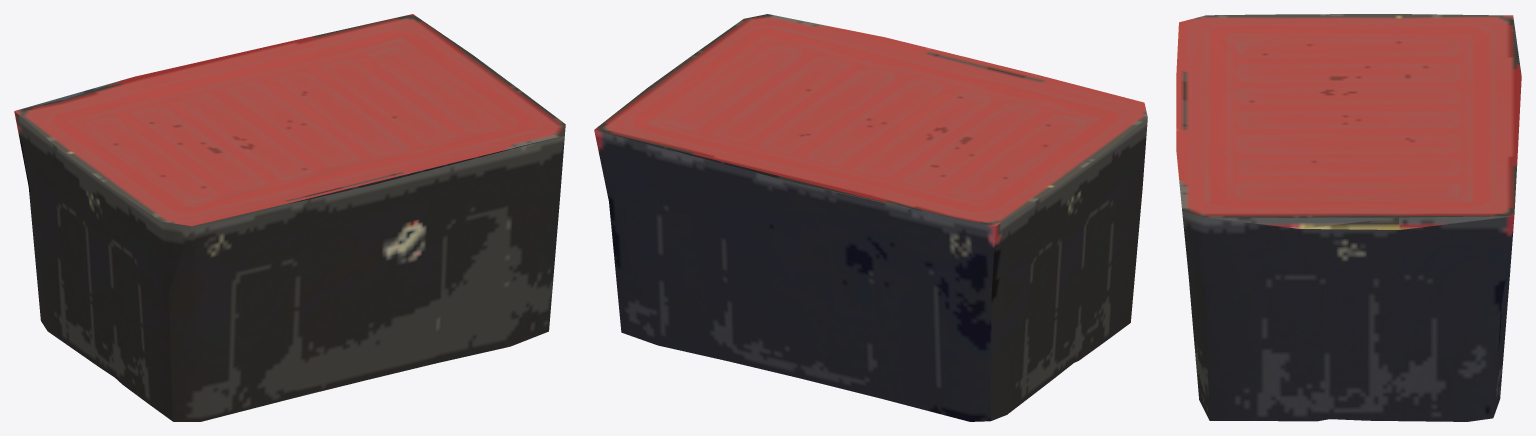
The model's file is plastic_container.glb.
The picture shows the model from 3 angles, left to right: view 1: azimuth 30°, elevation 25°; view 2: azimuth 150°, elevation 25°; view 3: azimuth 270°, elevation 25°; orthographic projection. The views are drawn at different scales.
Visible parts, largest first — view 1: mesh; view 2: mesh; view 3: mesh.
Part boxes in pixels (box(x1,y1,x2,y2)): mesh: box(14, 14, 565, 421); mesh: box(594, 14, 1147, 421); mesh: box(1176, 14, 1521, 421).
Bounding box in the file's own units: 0.8882 × 0.4297 × 0.6251.
Materials: 1 (1 with a texture image).
